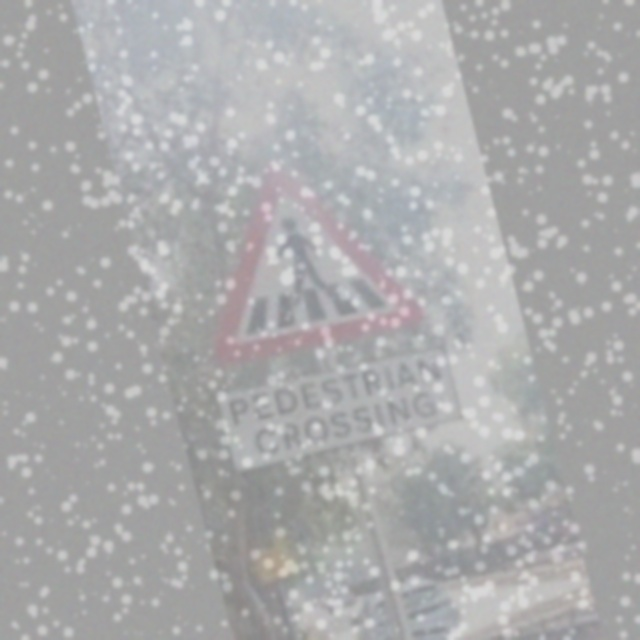Pedestrian_Crossing: (176, 130, 434, 368)
